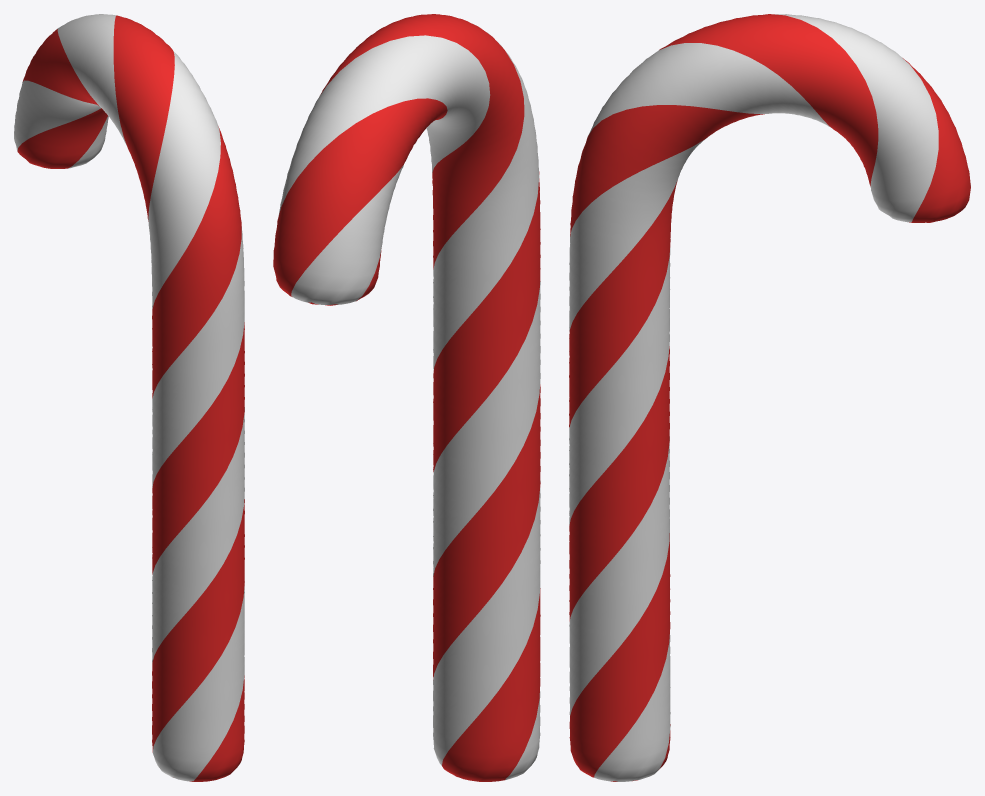
File: candy cane v1.fbx
The picture shows the model from 3 angles, left to right: view 1: azimuth 30°, elevation 25°; view 2: azimuth 150°, elevation 25°; view 3: azimuth 270°, elevation 25°; orthographic projection. The views are drawn at different scales.
Parts seen in each view (by area): view 1: Circle.002; view 2: Circle.002; view 3: Circle.002.
Boxes of the visible parts, x1=… form: Circle.002: x1=14, y1=14, x2=244, y2=781; Circle.002: x1=273, y1=14, x2=540, y2=781; Circle.002: x1=569, y1=14, x2=970, y2=781.
Size of the model in its own units: 171 by 1410 by 681.
